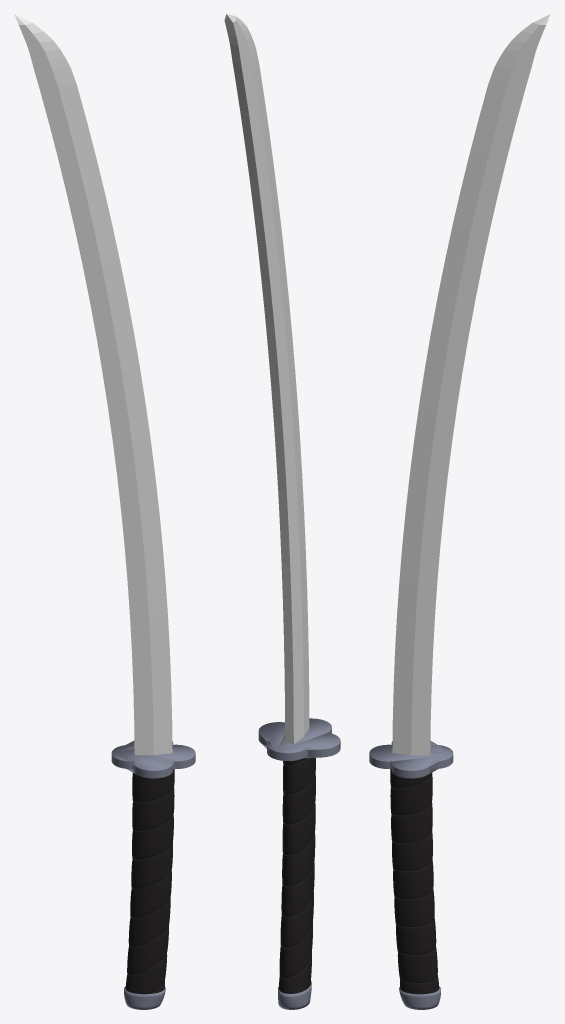
File: Sword.fbx
3 views of the same model, side by side, from view 1: azimuth 90°, elevation 25°; view 2: azimuth 150°, elevation 25°; view 3: azimuth 270°, elevation 25° (orthographic). The views are drawn at different scales.
Parts seen in each view (by area): view 1: Blade, Handle, Guard, Handle.001; view 2: Blade, Handle, Guard, Handle.001; view 3: Blade, Handle, Guard, Handle.001.
Boxes of the visible parts, bbox=[...] form: Blade: bbox=[14, 14, 172, 755]; Handle: bbox=[125, 769, 174, 994]; Guard: bbox=[111, 741, 195, 778]; Handle.001: bbox=[124, 986, 165, 1009]; Blade: bbox=[224, 14, 309, 743]; Handle: bbox=[278, 758, 315, 993]; Guard: bbox=[258, 718, 340, 760]; Handle.001: bbox=[278, 981, 311, 1009]; Blade: bbox=[392, 14, 550, 755]; Handle: bbox=[390, 769, 439, 994]; Guard: bbox=[369, 741, 453, 778]; Handle.001: bbox=[399, 986, 440, 1009].
Size of the model in its own units: 38.42 by 499 by 82.84.
